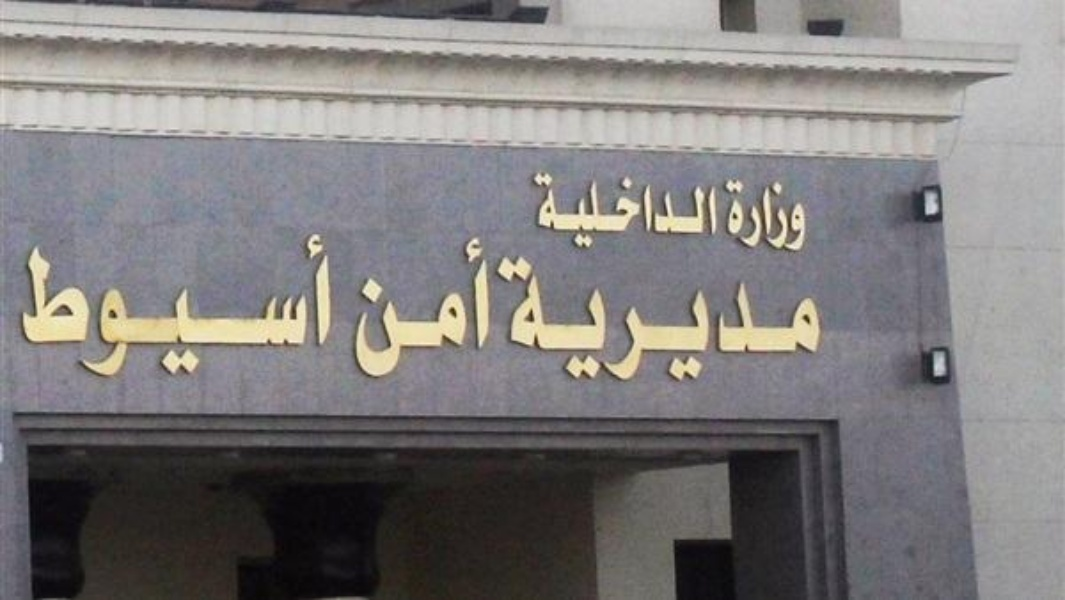text: (353, 231, 368, 384), (369, 231, 384, 384), (385, 231, 400, 384), (401, 231, 416, 384), (417, 231, 432, 384), (433, 231, 448, 384), (449, 231, 464, 384), (465, 231, 480, 384), (33, 229, 48, 380), (49, 229, 64, 380), (65, 229, 80, 380), (81, 229, 96, 380), (97, 229, 112, 380), (113, 229, 128, 380), (129, 229, 144, 380), (145, 229, 160, 380), (161, 229, 176, 380), (177, 229, 192, 380), (193, 229, 208, 380), (209, 229, 224, 380), (225, 229, 240, 380), (241, 229, 256, 380), (257, 229, 272, 380), (273, 229, 288, 380), (289, 229, 304, 380), (305, 229, 320, 380), (497, 256, 512, 382), (513, 256, 528, 382), (529, 256, 544, 382), (545, 256, 560, 382), (561, 256, 576, 382), (577, 256, 592, 382), (593, 256, 608, 382), (609, 256, 624, 382), (625, 256, 640, 382), (641, 256, 656, 382), (657, 256, 672, 382), (673, 256, 688, 382), (689, 256, 704, 382), (705, 256, 720, 382), (721, 256, 736, 382), (737, 256, 752, 382), (753, 256, 768, 382), (769, 256, 784, 382), (785, 256, 800, 382), (801, 256, 816, 382), (481, 231, 492, 384), (22, 229, 32, 380), (321, 229, 331, 380), (545, 169, 560, 249), (561, 169, 576, 249), (577, 169, 592, 249), (593, 169, 608, 249), (609, 169, 624, 249), (625, 169, 640, 249), (641, 169, 656, 249), (657, 169, 672, 249), (673, 169, 688, 249), (689, 169, 704, 249), (737, 178, 752, 256), (753, 178, 768, 256), (769, 178, 784, 256), (785, 178, 800, 256), (705, 169, 718, 249), (723, 178, 736, 256), (817, 256, 824, 382), (533, 169, 544, 249), (801, 178, 808, 256)
